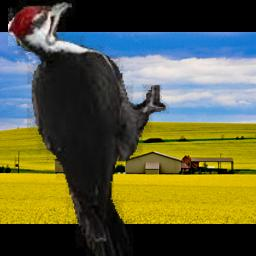Woodpecker: (8, 0, 169, 256)
